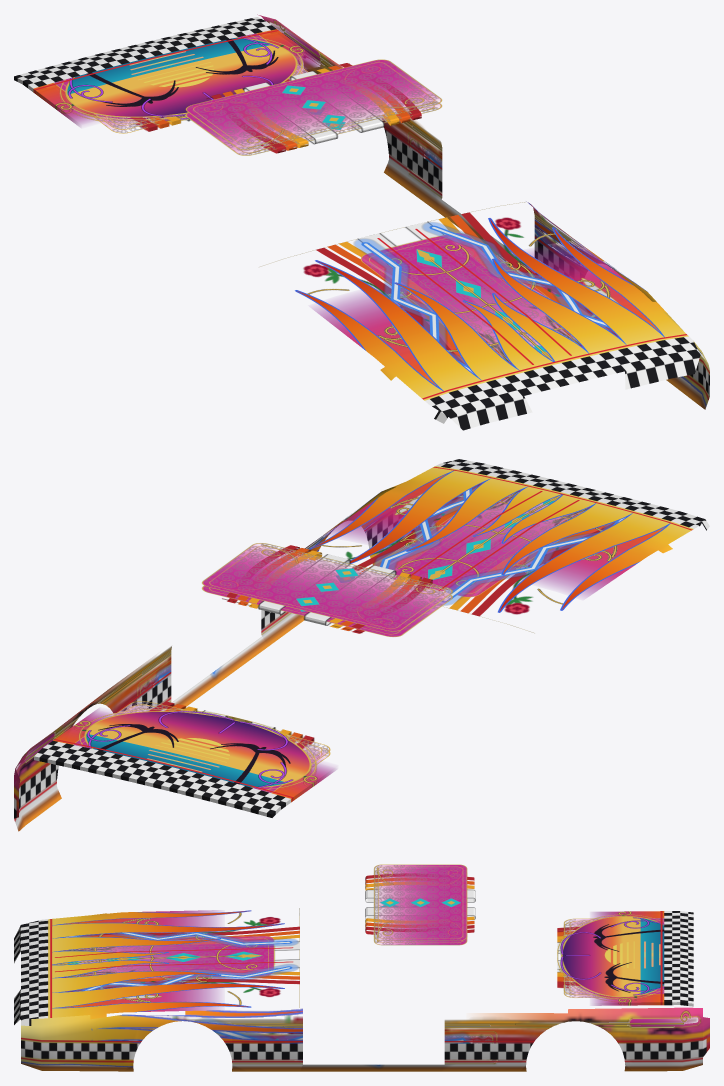
Rendered from IroncladVinyls.glb.
3 renders of one model, top to bottom at view 1: azimuth 30°, elevation 25°; view 2: azimuth 150°, elevation 25°; view 3: azimuth 270°, elevation 25°, orthographic. The views are drawn at different scales.
Parts seen in each view (by area): view 1: IroncladLivery_flames_hood, IroncladLivery_patterns_roof, IroncladLivery_mural_trunk, IroncladLivery_checker_hood, IroncladLivery_purple_lace_roof, IroncladLivery_patterns_hood, IroncladLivery_lightning_hood, IroncladLivery_checker_trunk, IroncladLivery_purple_lace_hood, IroncladLivery_sunset_fade_hood, IroncladLivery_retro_waves_hood, IroncladLivery_checker_side (+14 smaller); view 2: IroncladLivery_flames_hood, IroncladLivery_patterns_roof, IroncladLivery_mural_trunk, IroncladLivery_purple_lace_roof, IroncladLivery_patterns_hood, IroncladLivery_checker_trunk, IroncladLivery_checker_hood, IroncladLivery_purple_lace_hood, IroncladLivery_lightning_hood, IroncladLivery_sunset_fade_hood, IroncladLivery_retro_waves_hood, IroncladLivery_checker_side (+16 smaller); view 3: IroncladLivery_flames_hood, IroncladLivery_checker_side, IroncladLivery_mural_trunk, IroncladLivery_patterns_roof, IroncladLivery_flames_side, IroncladLivery_purple_lace_roof, IroncladLivery_patterns_hood, IroncladLivery_checker_hood, IroncladLivery_tropical_side, IroncladLivery_sunset_fade_side, IroncladLivery_checker_trunk, IroncladLivery_stripes_side (+24 smaller).
Boxes of the visible parts, bbox=[...] form: IroncladLivery_flames_hood: bbox=[295, 218, 688, 400]; IroncladLivery_patterns_roof: bbox=[186, 59, 441, 155]; IroncladLivery_mural_trunk: bbox=[55, 35, 303, 123]; IroncladLivery_checker_hood: bbox=[377, 228, 704, 430]; IroncladLivery_purple_lace_roof: bbox=[187, 64, 441, 155]; IroncladLivery_patterns_hood: bbox=[360, 232, 578, 362]; IroncladLivery_lightning_hood: bbox=[354, 222, 614, 372]; IroncladLivery_checker_trunk: bbox=[14, 17, 278, 93]; IroncladLivery_purple_lace_hood: bbox=[404, 246, 577, 360]; IroncladLivery_sunset_fade_hood: bbox=[316, 246, 659, 385]; IroncladLivery_retro_waves_hood: bbox=[316, 212, 618, 364]; IroncladLivery_checker_side: bbox=[303, 68, 709, 400]; IroncladLivery_flames_hood: bbox=[309, 466, 693, 612]; IroncladLivery_patterns_roof: bbox=[202, 543, 452, 636]; IroncladLivery_mural_trunk: bbox=[74, 709, 316, 789]; IroncladLivery_purple_lace_roof: bbox=[208, 543, 452, 634]; IroncladLivery_patterns_hood: bbox=[379, 492, 589, 597]; IroncladLivery_checker_trunk: bbox=[34, 739, 293, 817]; IroncladLivery_checker_hood: bbox=[409, 459, 709, 590]; IroncladLivery_purple_lace_hood: bbox=[402, 493, 584, 581]; IroncladLivery_lightning_hood: bbox=[373, 485, 625, 605]; IroncladLivery_sunset_fade_hood: bbox=[330, 474, 664, 595]; IroncladLivery_retro_waves_hood: bbox=[353, 483, 614, 616]; IroncladLivery_checker_side: bbox=[14, 517, 399, 821]; IroncladLivery_flames_hood: bbox=[48, 910, 284, 1019]; IroncladLivery_checker_side: bbox=[21, 1036, 707, 1062]; IroncladLivery_mural_trunk: bbox=[557, 911, 664, 1005]; IroncladLivery_patterns_roof: bbox=[374, 864, 466, 944]; IroncladLivery_flames_side: bbox=[21, 1009, 683, 1067]; IroncladLivery_purple_lace_roof: bbox=[374, 865, 458, 944]; IroncladLivery_patterns_hood: bbox=[60, 936, 274, 978]; IroncladLivery_checker_hood: bbox=[14, 919, 293, 1025]; IroncladLivery_tropical_side: bbox=[479, 1007, 709, 1043]; IroncladLivery_sunset_fade_side: bbox=[21, 1020, 709, 1071]; IroncladLivery_checker_trunk: bbox=[660, 911, 693, 1006]; IroncladLivery_stripes_side: bbox=[21, 1056, 703, 1068].
Size of the model in its own units: 7.26 by 3.74 by 20.2.
Materials: 50 (50 with a texture image).
